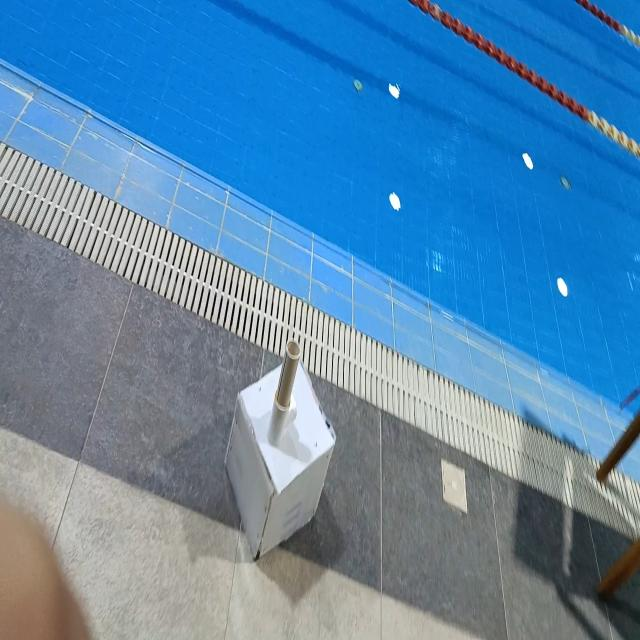Cube: (224, 350, 336, 561)
